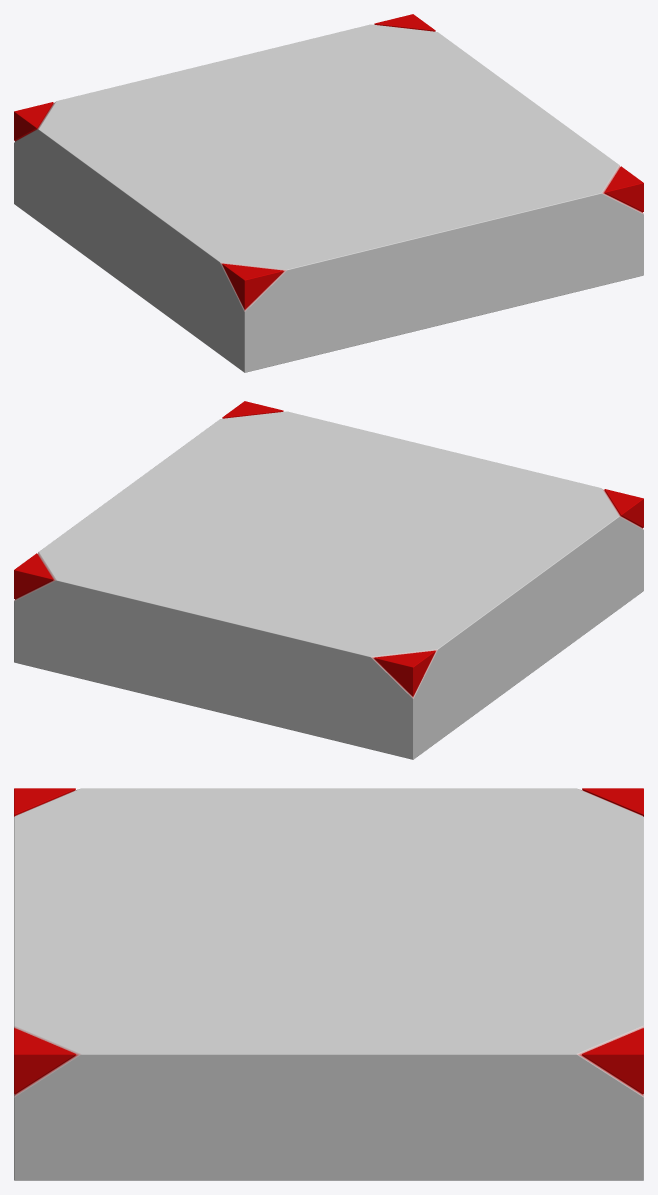
Rendered from platform.fbx.
3 renders of one model, top to bottom at view 1: azimuth 30°, elevation 25°; view 2: azimuth 150°, elevation 25°; view 3: azimuth 270°, elevation 25°, orthographic. The views are drawn at different scales.
Visible parts, largest first — view 1: platform; view 2: platform; view 3: platform.
Part boxes in pixels (x1,y1,x2,y2): platform: (14, 14, 643, 372); platform: (14, 401, 643, 759); platform: (14, 788, 643, 1180).
Size of the model in its own units: 401 by 88.97 by 401.
